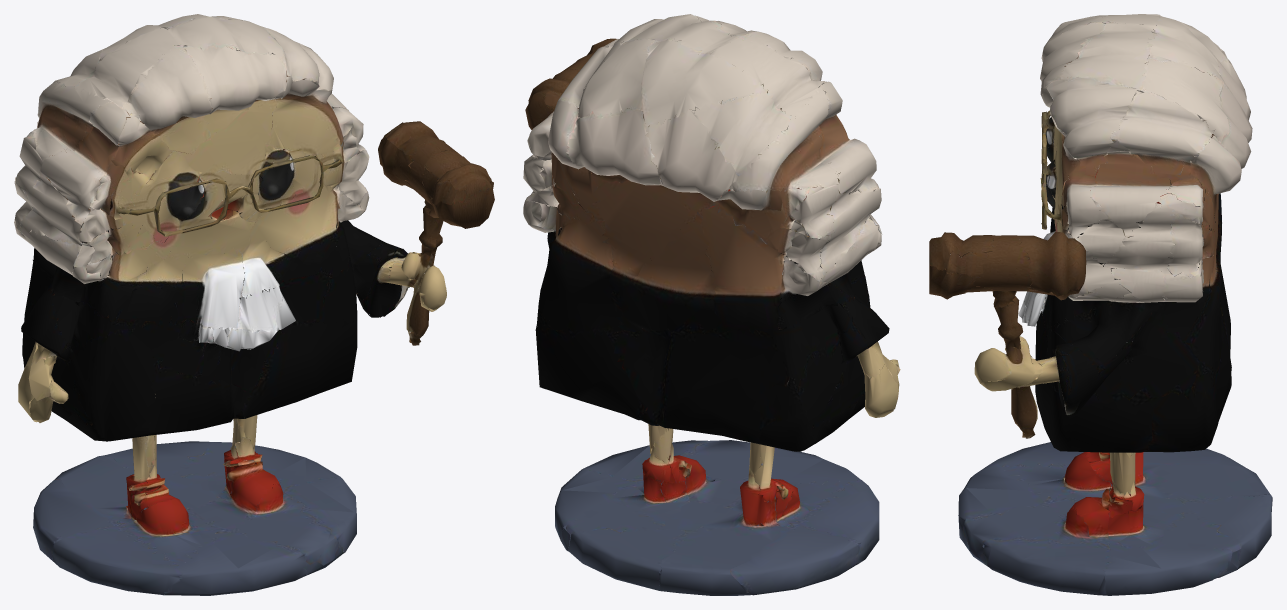
Rendered from judge-gaveltoes.glb.
3 renders of one model, left to right at view 1: azimuth 30°, elevation 25°; view 2: azimuth 150°, elevation 25°; view 3: azimuth 270°, elevation 25°, orthographic.
Parts seen in each view (by area): view 1: Mesh_0; view 2: Mesh_0; view 3: Mesh_0.
Boxes of the visible parts, box(x1,y1,x2,y2) form: Mesh_0: box(14, 14, 494, 595); Mesh_0: box(523, 14, 900, 595); Mesh_0: box(929, 14, 1272, 595).
Bounding box in the file's own units: 1.56 × 1.9 × 1.18.
Materials: 1 (1 with a texture image).
